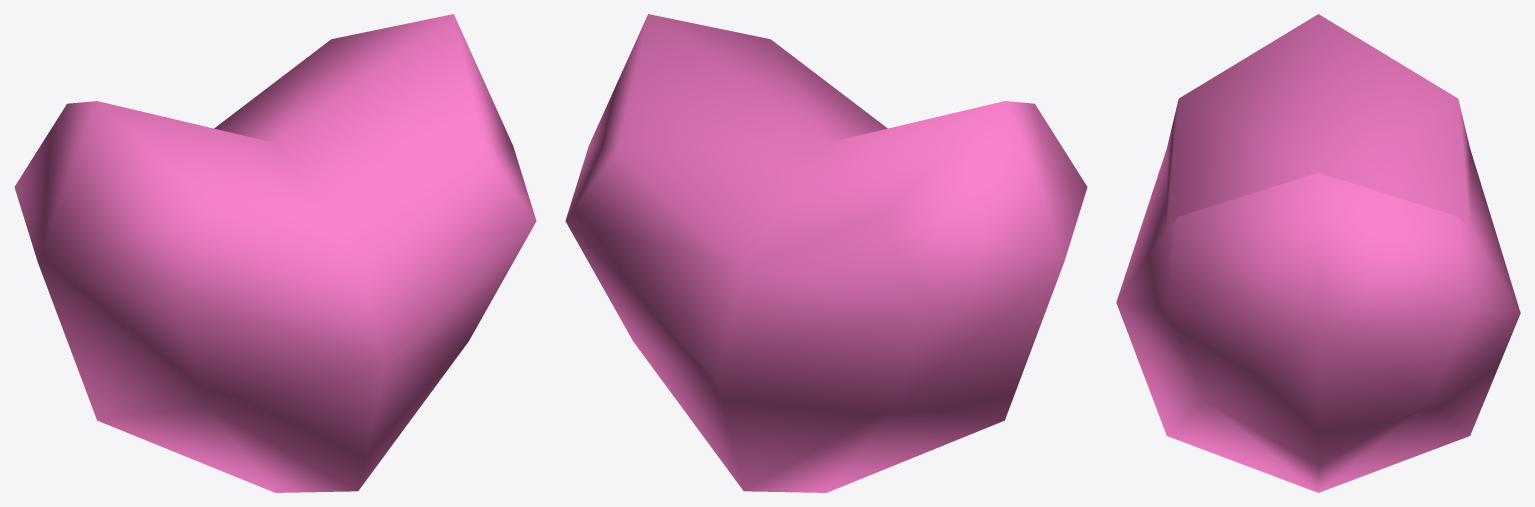
The model's file is BunnyHeart.fbx.
The picture shows the model from 3 angles, left to right: view 1: azimuth 30°, elevation 25°; view 2: azimuth 150°, elevation 25°; view 3: azimuth 270°, elevation 25°; orthographic projection. The views are drawn at different scales.
Visible parts, largest first — view 1: Bunny; view 2: Bunny; view 3: Bunny.
Part boxes in pixels (left/top/right/bottom): Bunny: left=14, top=14, right=536, bottom=492; Bunny: left=565, top=14, right=1087, bottom=492; Bunny: left=1116, top=14, right=1520, bottom=492.
Size of the model in its own units: 23 by 20.13 by 18.48.
